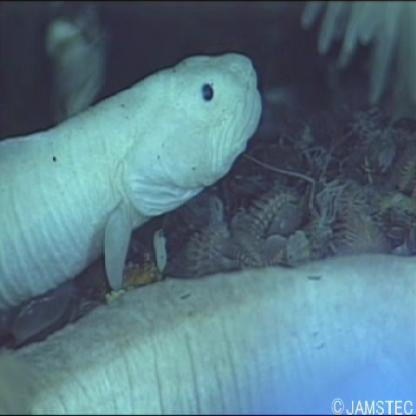Bio: (1, 45, 269, 312)
